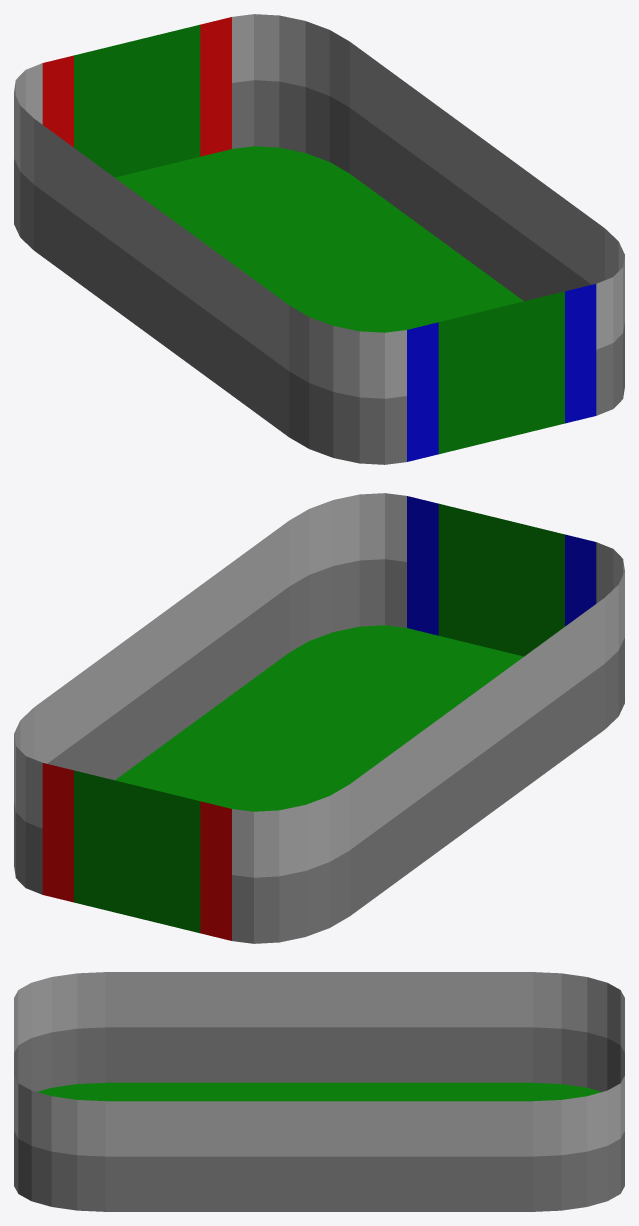
The model's file is ArenaCollider.fbx.
The picture shows the model from 3 angles, top to bottom: view 1: azimuth 30°, elevation 25°; view 2: azimuth 150°, elevation 25°; view 3: azimuth 270°, elevation 25°; orthographic projection. The views are drawn at different scales.
Visible parts, largest first — view 1: pPlane11; view 2: pPlane11; view 3: pPlane11.
Part boxes in pixels (x1,y1,x2,y2): pPlane11: (14,14,624,464); pPlane11: (14,493,624,943); pPlane11: (14,972,624,1211).
Size of the model in its own units: 5 by 2 by 10.
